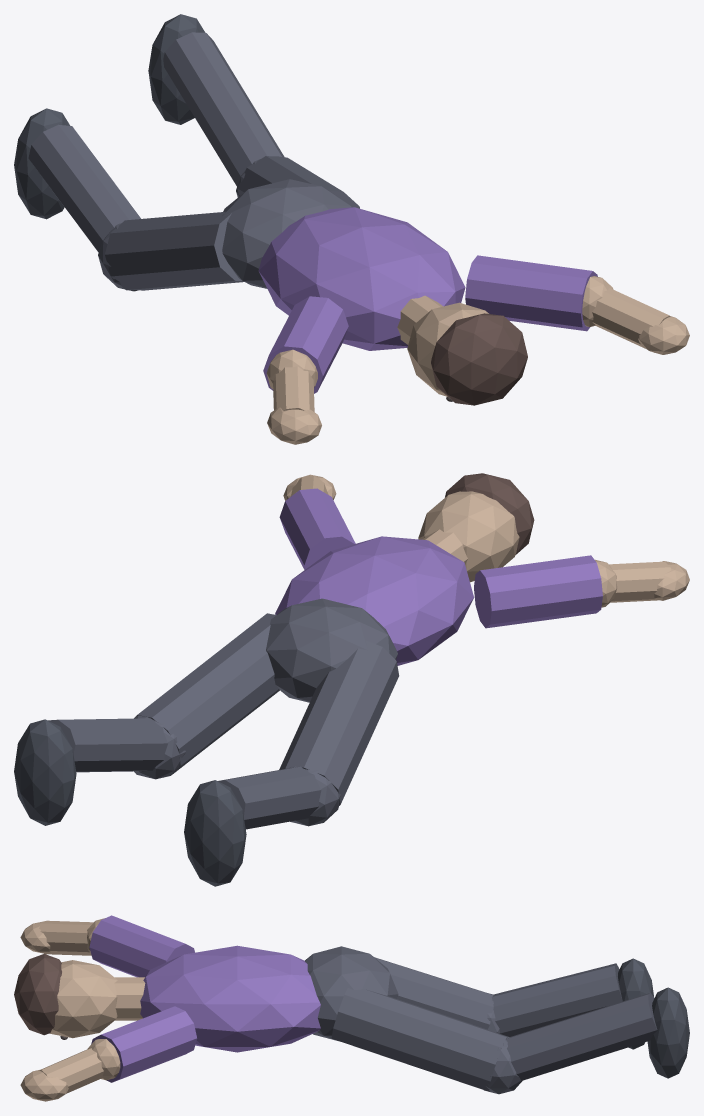
3 views of the same model, one above another, from view 1: azimuth 30°, elevation 25°; view 2: azimuth 150°, elevation 25°; view 3: azimuth 270°, elevation 25° (orthographic). The views are drawn at different scales.
Parts seen in each view (by area): view 1: world; view 2: world; view 3: world.
Boxes of the visible parts, bbox=[...] form: world: bbox=[14, 14, 689, 444]; world: bbox=[14, 473, 689, 886]; world: bbox=[14, 915, 689, 1101].
Bounding box in the file's own units: 1.17 × 0.4125 × 2.01.
